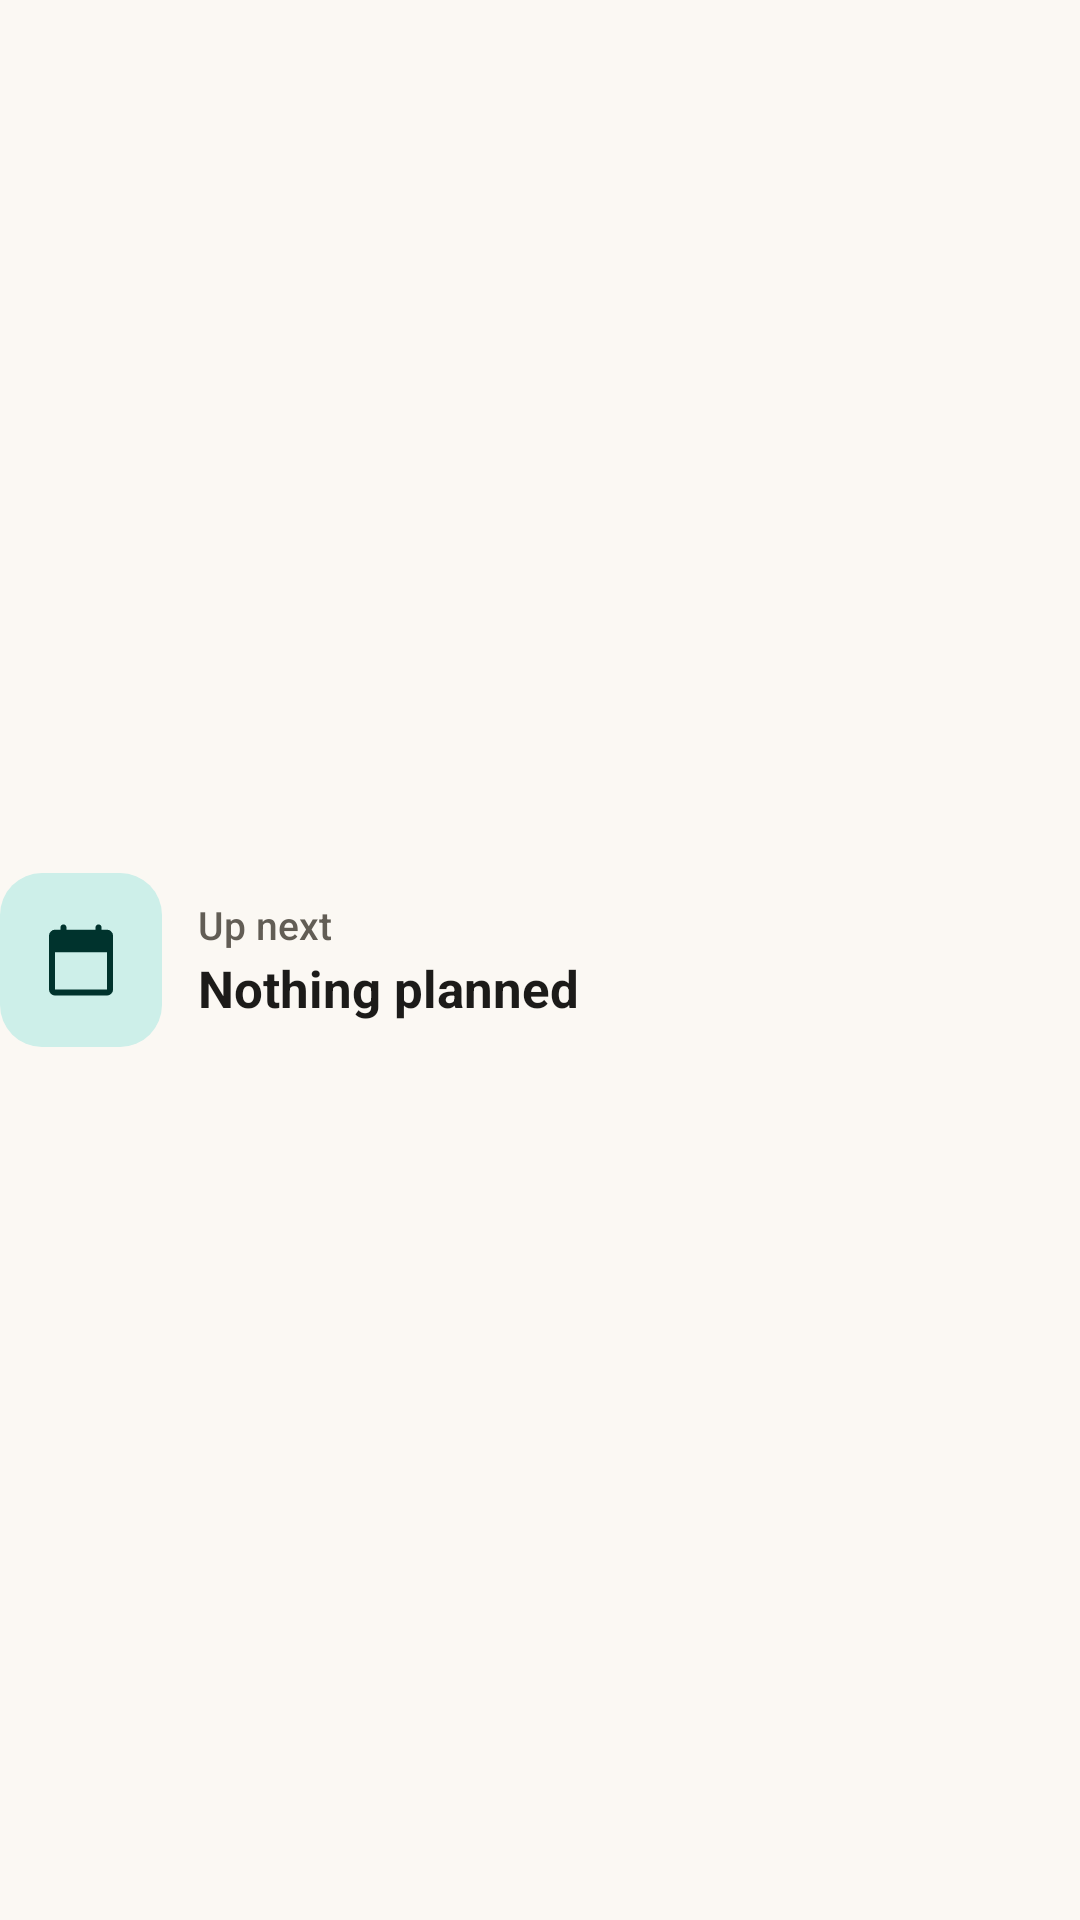

Icons on this 1080 x 1920 Android screen, each with the point to tap as [x,y]:
calendar: [81,960]
